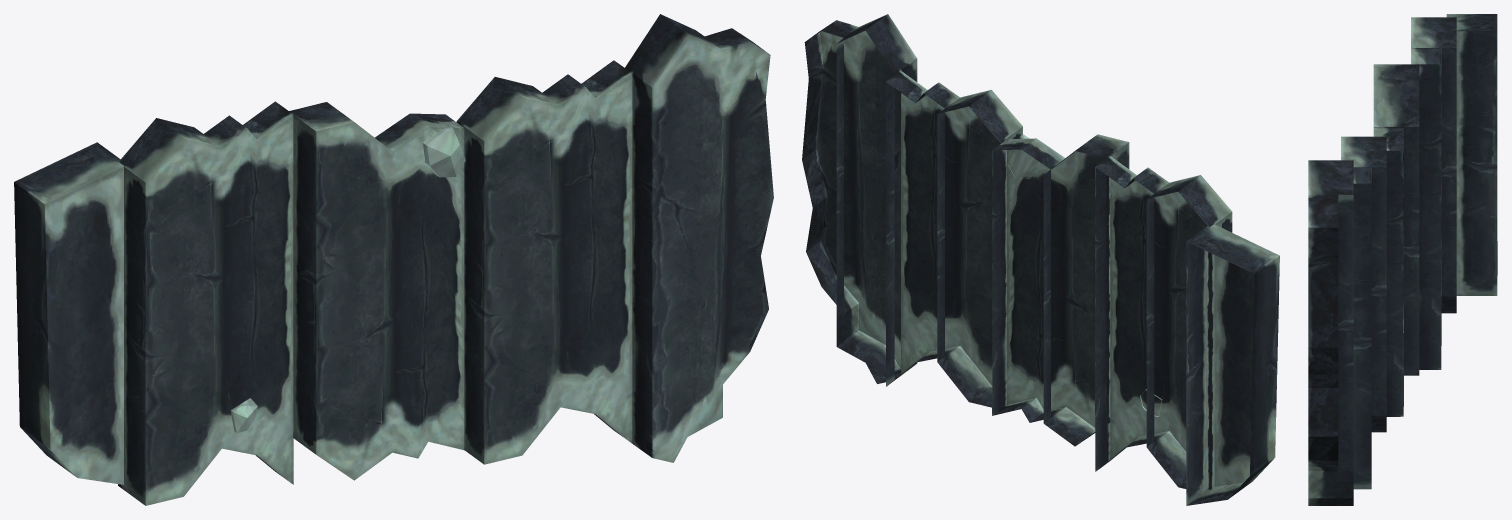
File: huodong_fuben_593_louti_01.obj
3 views of the same model, side by side, from view 1: azimuth 30°, elevation 25°; view 2: azimuth 150°, elevation 25°; view 3: azimuth 270°, elevation 25° (orthographic). The views are drawn at different scales.
Parts seen in each view (by area): view 1: huodong_fuben_593_louti_01; view 2: huodong_fuben_593_louti_01; view 3: huodong_fuben_593_louti_01.
Part boxes in pixels (x1,y1,x2,y2): huodong_fuben_593_louti_01: [14, 14, 773, 505]; huodong_fuben_593_louti_01: [802, 14, 1279, 505]; huodong_fuben_593_louti_01: [1308, 14, 1497, 505].
Bounding box in the file's own units: 618 × 390 × 190.
Materials: 1 (1 with a texture image).
